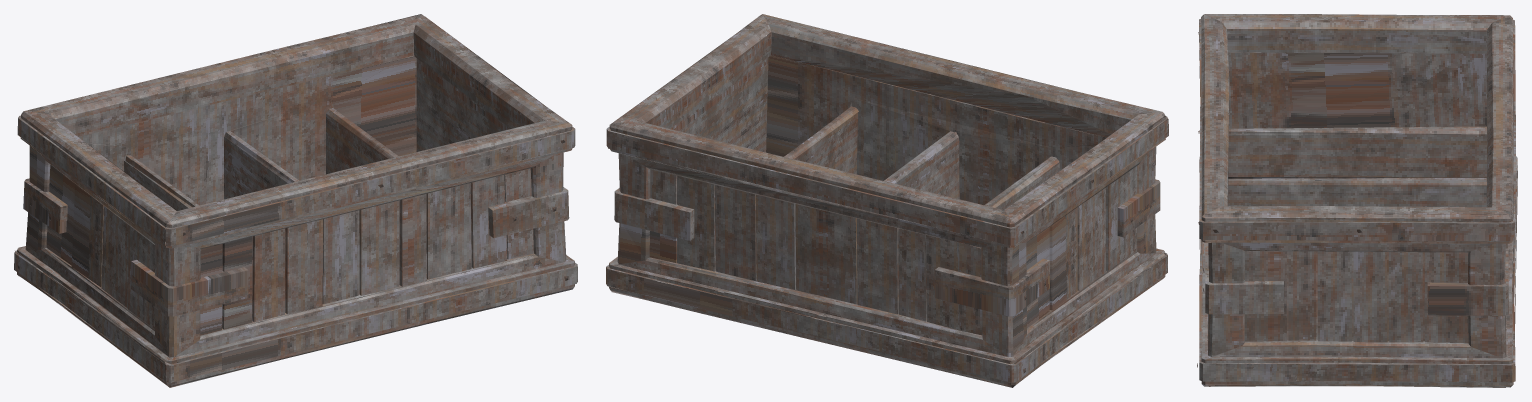
Rendered from body.glb.
The picture shows the model from 3 angles, left to right: view 1: azimuth 30°, elevation 25°; view 2: azimuth 150°, elevation 25°; view 3: azimuth 270°, elevation 25°; orthographic projection. The views are drawn at different scales.
Visible parts, largest first — view 1: SM_Crate_A_01_LOD1; view 2: SM_Crate_A_01_LOD1; view 3: SM_Crate_A_01_LOD1.
Part boxes in pixels (left/top/right/bottom): SM_Crate_A_01_LOD1: left=14, top=14, right=577, bottom=387; SM_Crate_A_01_LOD1: left=606, top=14, right=1168, bottom=387; SM_Crate_A_01_LOD1: left=1197, top=14, right=1517, bottom=387.
Bounding box in the file's own units: 1.5 × 0.5907 × 0.9774.
1 material, 1 textured.
